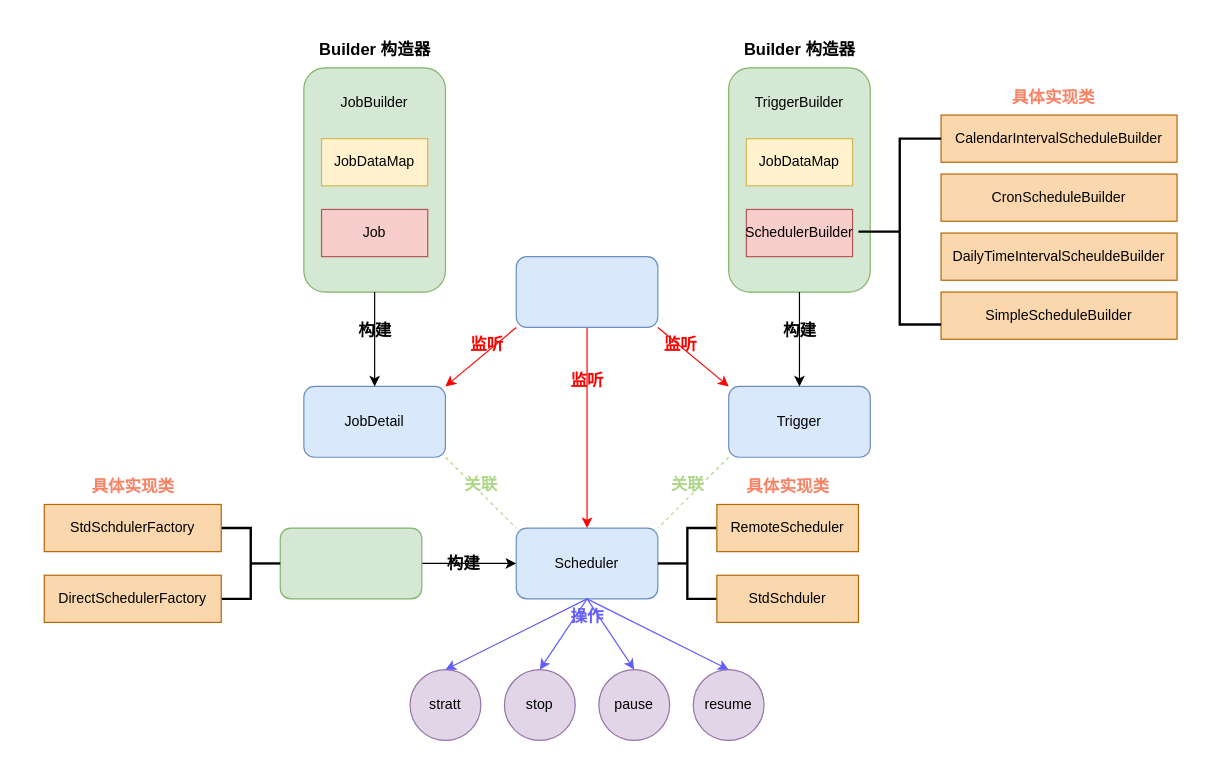
Image size: 1205x772. Some labels were removed from this diagram. Here are the shapes that lost their labels. From the top down, the centre of each, then its label:
[586,291]: Listener
[350,563]: SchedulerFactory
